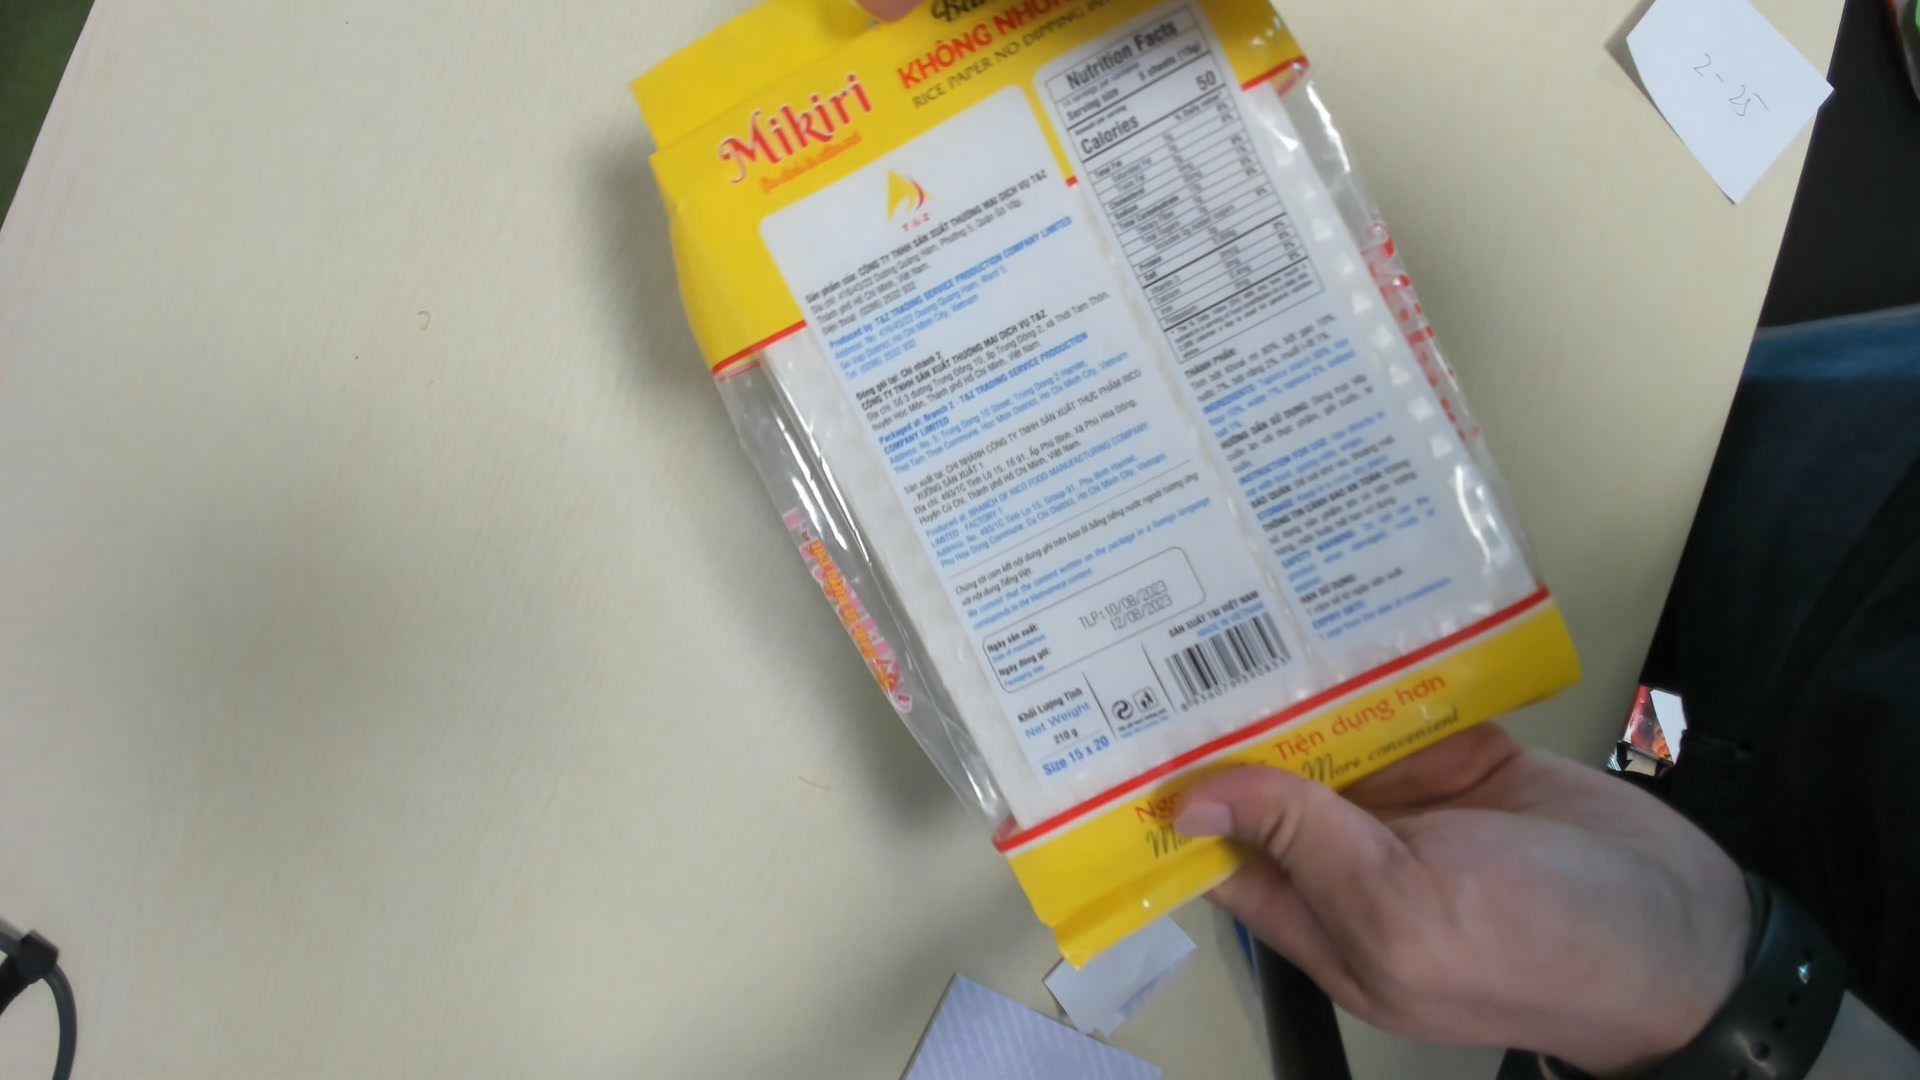InstantMeals_200_299g_NonHalal_NonHealthy: (636, 3, 1594, 985)
